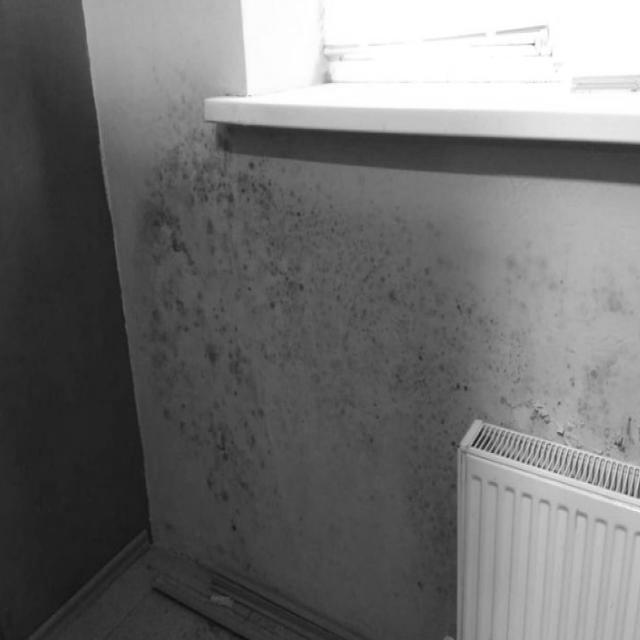stain marks: (130, 124, 470, 403), (472, 295, 634, 424), (160, 404, 282, 545)
